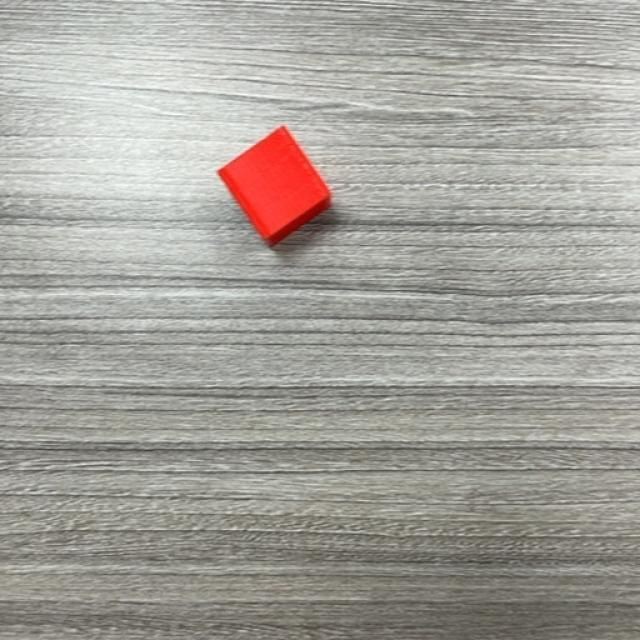Rojo: (216, 126, 334, 248)
